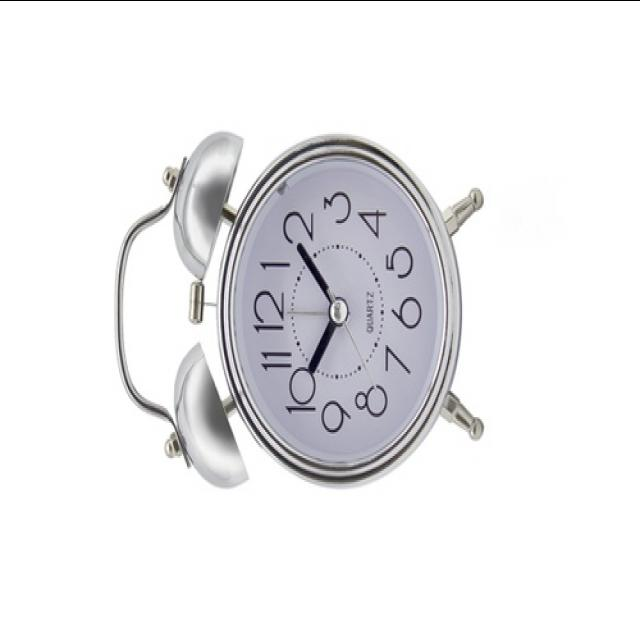clock: (170, 0, 640, 557)
